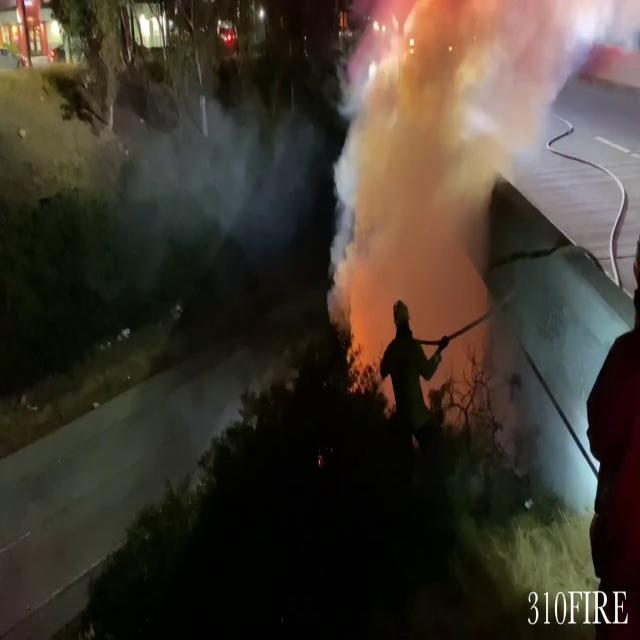Smoke: (322, 0, 588, 408), (110, 44, 322, 272)
